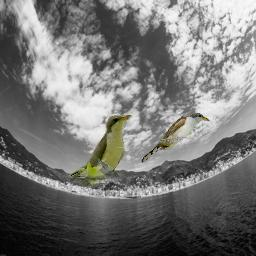Cuckoo: (70, 113, 133, 187), (140, 112, 211, 163)
